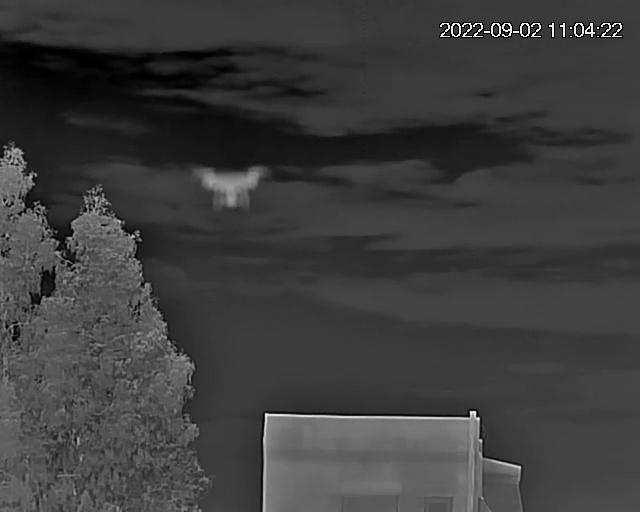DJI-Phantom: (194, 165, 274, 213)
